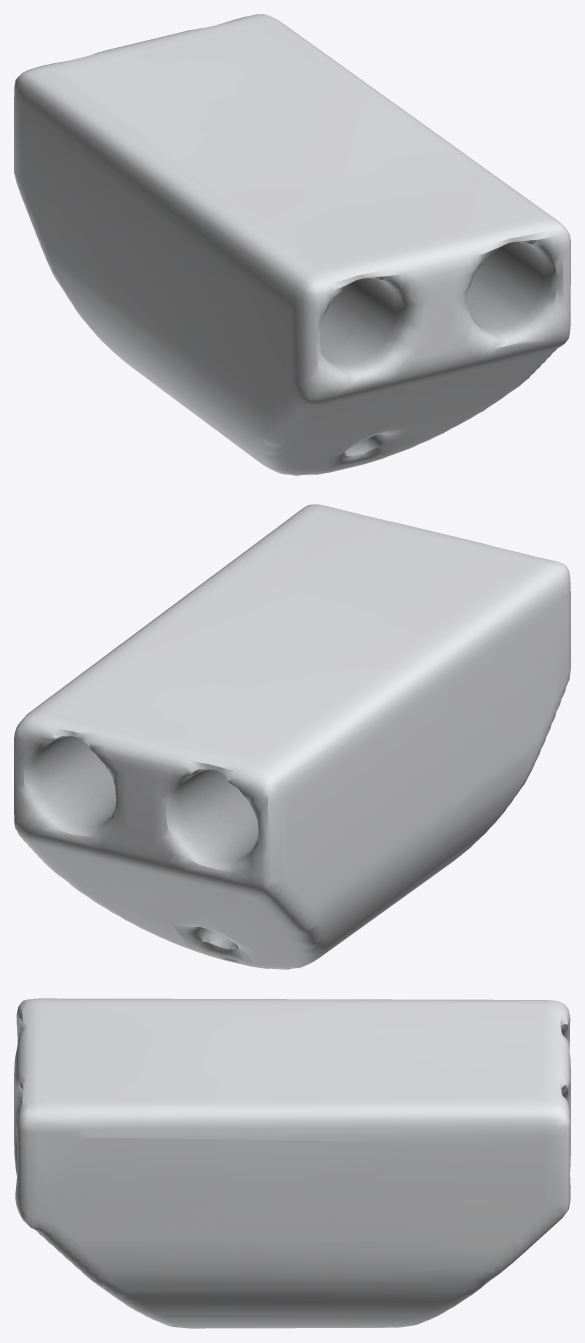
The model's file is right_finger3_middle.obj.
The picture shows the model from 3 angles, top to bottom: view 1: azimuth 30°, elevation 25°; view 2: azimuth 150°, elevation 25°; view 3: azimuth 270°, elevation 25°; orthographic projection. The views are drawn at different scales.
Parts seen in each view (by area): view 1: right_finger3_middle; view 2: right_finger3_middle; view 3: right_finger3_middle.
Part boxes in pixels (x1,y1,x2,y2): right_finger3_middle: (14,14,570,475); right_finger3_middle: (14,504,570,969); right_finger3_middle: (14,998,570,1328).
Bounding box in the file's own units: 0.0112 × 0.0112 × 0.0218.
1 material, 1 textured.
